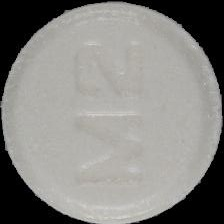53808-0367: (0, 0, 224, 224)
